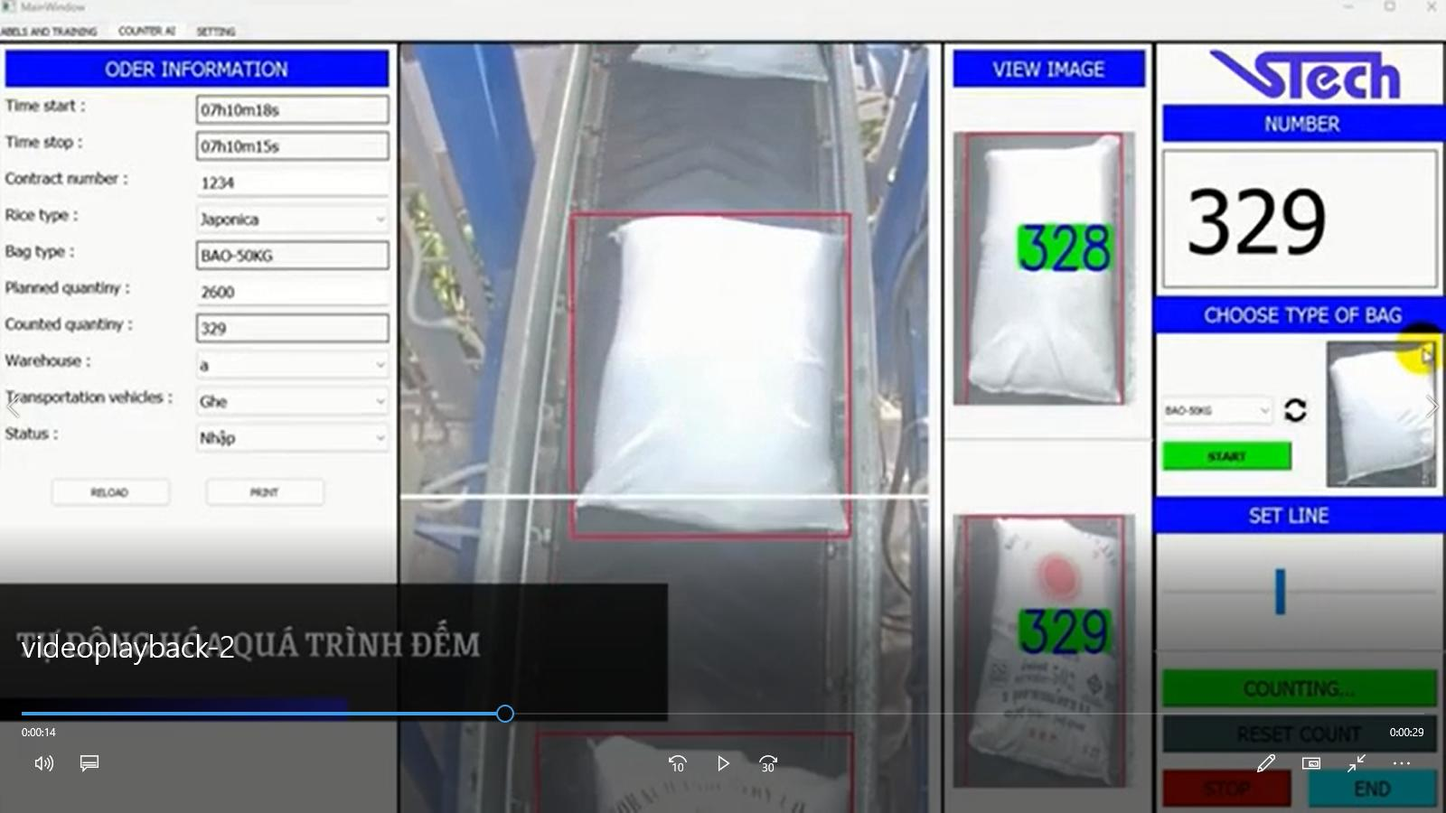rice-bag: (577, 218, 845, 532), (965, 134, 1122, 404), (970, 518, 1122, 780)
